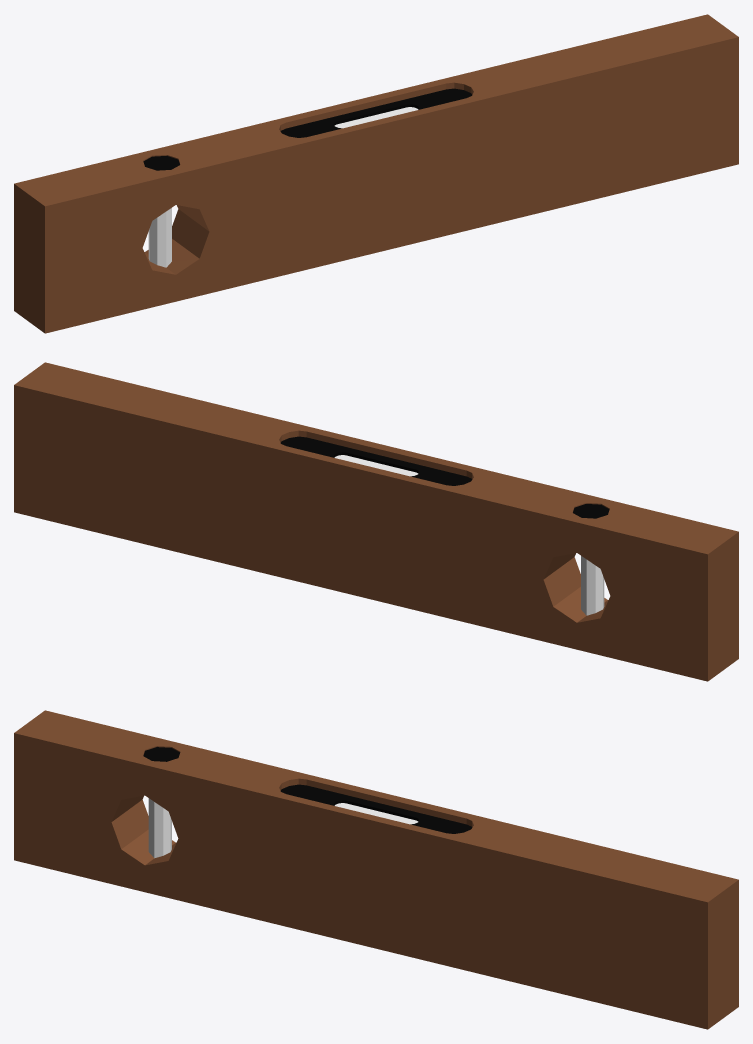
The model's file is leveling01.obj.
The picture shows the model from 3 angles, top to bottom: view 1: azimuth 30°, elevation 25°; view 2: azimuth 150°, elevation 25°; view 3: azimuth 330°, elevation 25°; orthographic projection.
Parts seen in each view (by area): view 1: Cube; view 2: Cube; view 3: Cube.
Boxes of the visible parts, <box> form: Cube: <box>14,14,738,333</box>; Cube: <box>14,362,738,681</box>; Cube: <box>14,710,738,1029</box>.
Size of the model in its own units: 0.2267 by 0.0397 by 0.0176.
Materials: 1 (1 with a texture image).
